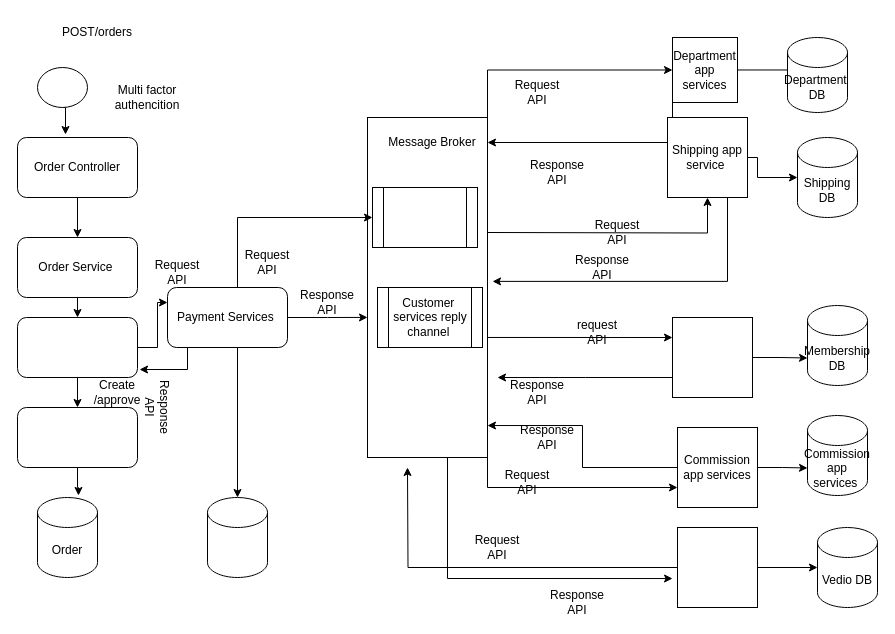
Some shapes in this 895 by 634 pixel diagram are drawn without their labels. Each missing label, with the box of its shape:
Create Order saga: (16, 316, 138, 378)
Customer service request saga: (372, 186, 478, 248)
membership app service: (672, 316, 752, 398)
Orders: (16, 406, 138, 468)
Payment DB: (206, 496, 268, 578)
Vedio app services: (676, 526, 758, 608)
